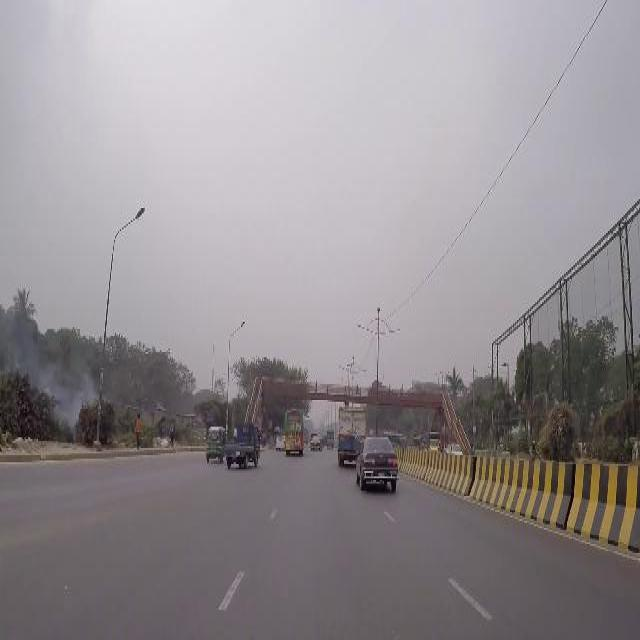bus: (282, 407, 304, 453)
car: (354, 435, 398, 493), (308, 434, 322, 450), (274, 433, 284, 449)
pickup: (223, 420, 260, 470), (336, 405, 366, 466), (326, 429, 334, 449)
three wheelers -CNG-: (204, 423, 226, 462)
